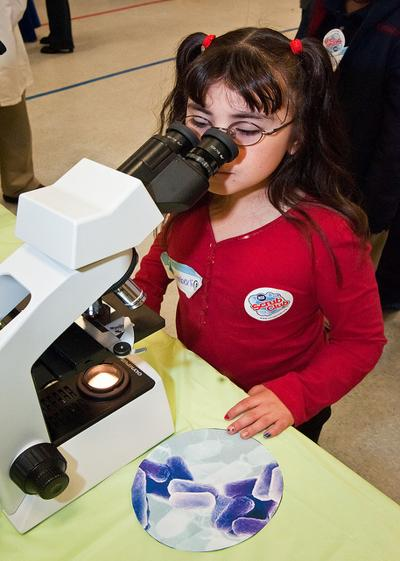person: (129, 27, 387, 446)
